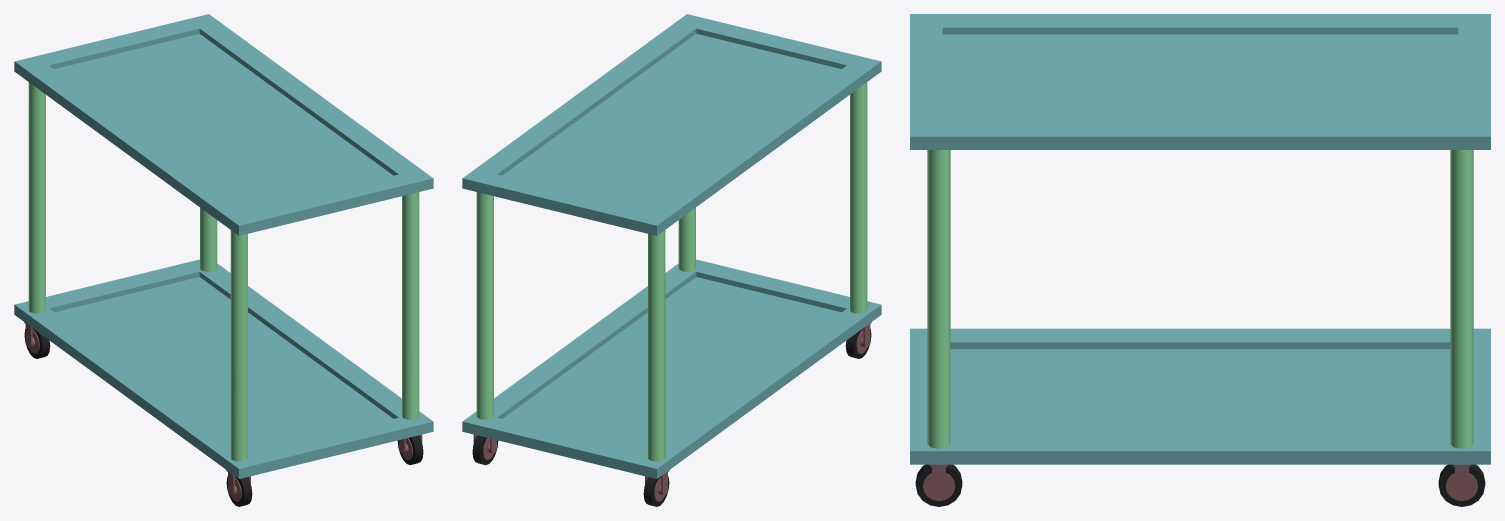
The model's file is WheeledTray.fbx.
The picture shows the model from 3 angles, left to right: view 1: azimuth 30°, elevation 25°; view 2: azimuth 150°, elevation 25°; view 3: azimuth 270°, elevation 25°; orthographic projection. The views are drawn at different scales.
Parts seen in each view (by area): view 1: UpperTray, LowerTray, Supports, Wheel.001, Wheel.000, Wheel.002; view 2: UpperTray, LowerTray, Supports, Wheel.002, Wheel.003, Wheel.001; view 3: UpperTray, LowerTray, Supports, Wheel.000, Wheel.003.
Boxes of the visible parts, x1=… form: UpperTray: x1=14, y1=14, x2=433, y2=235; LowerTray: x1=14, y1=259, x2=433, y2=478; Supports: x1=28, y1=82, x2=419, y2=461; Wheel.001: x1=226, y1=470, x2=252, y2=506; Wheel.000: x1=397, y1=434, x2=423, y2=464; Wheel.002: x1=24, y1=322, x2=50, y2=358; UpperTray: x1=462, y1=14, x2=881, y2=235; LowerTray: x1=462, y1=259, x2=881, y2=478; Supports: x1=476, y1=82, x2=867, y2=461; Wheel.002: x1=643, y1=470, x2=669, y2=506; Wheel.003: x1=472, y1=434, x2=498, y2=464; Wheel.001: x1=845, y1=322, x2=871, y2=358; UpperTray: x1=910, y1=14, x2=1490, y2=149; LowerTray: x1=910, y1=328, x2=1490, y2=464; Supports: x1=927, y1=150, x2=1473, y2=448; Wheel.000: x1=915, y1=464, x2=962, y2=506; Wheel.003: x1=1438, y1=464, x2=1485, y2=506.
Size of the model in its own units: 50 by 71.25 by 100.
